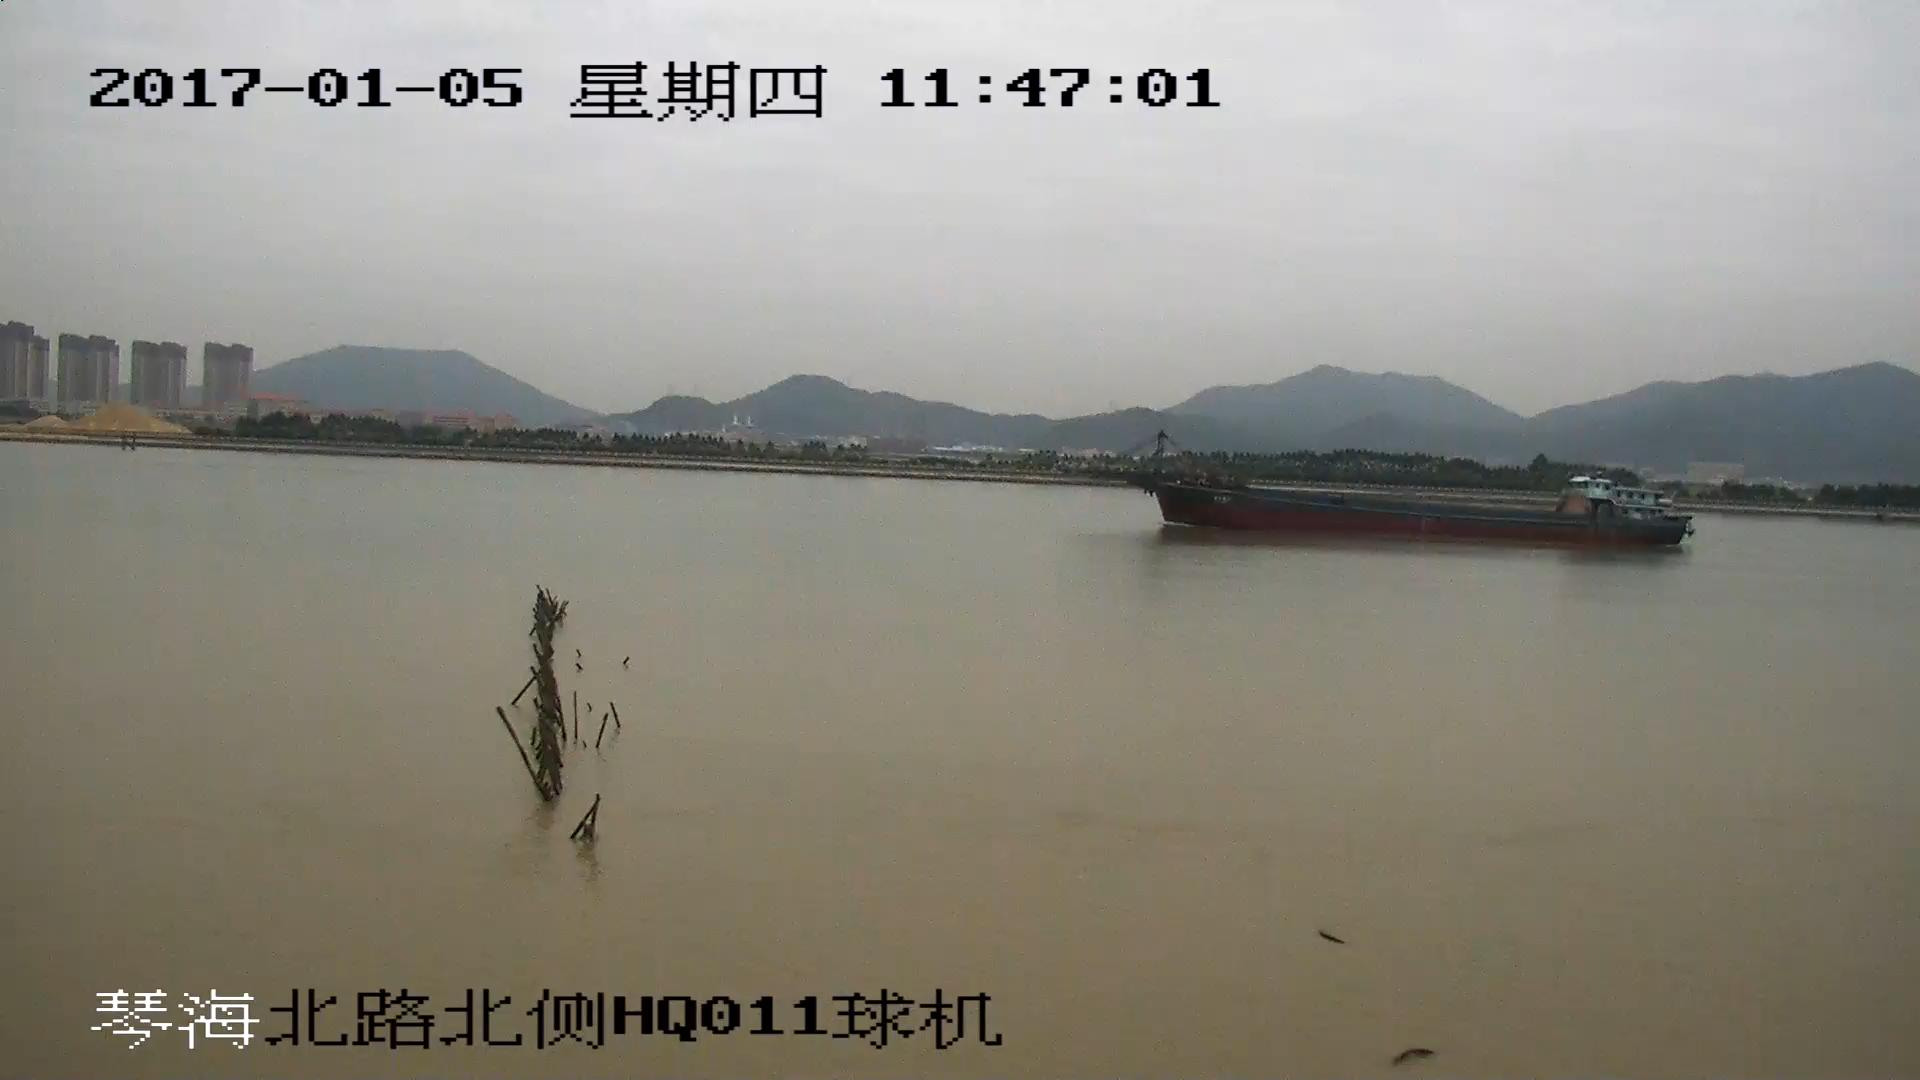bulk cargo carrier: (1075, 439, 1694, 552)
